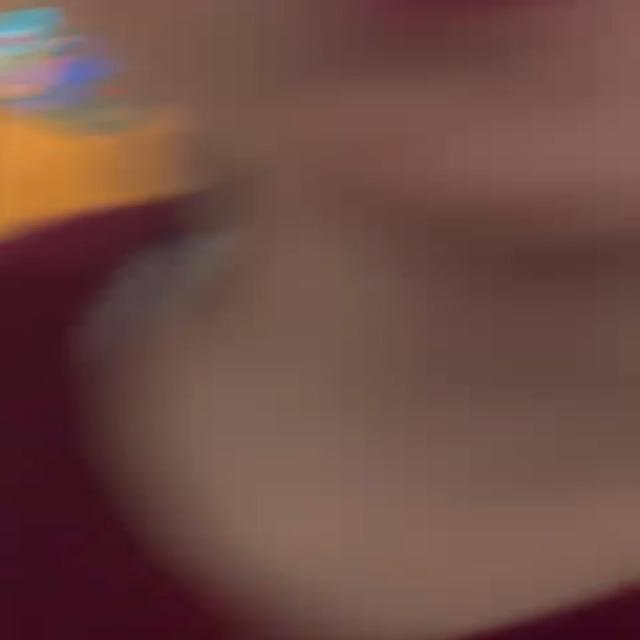authorized: (3, 0, 636, 638)
